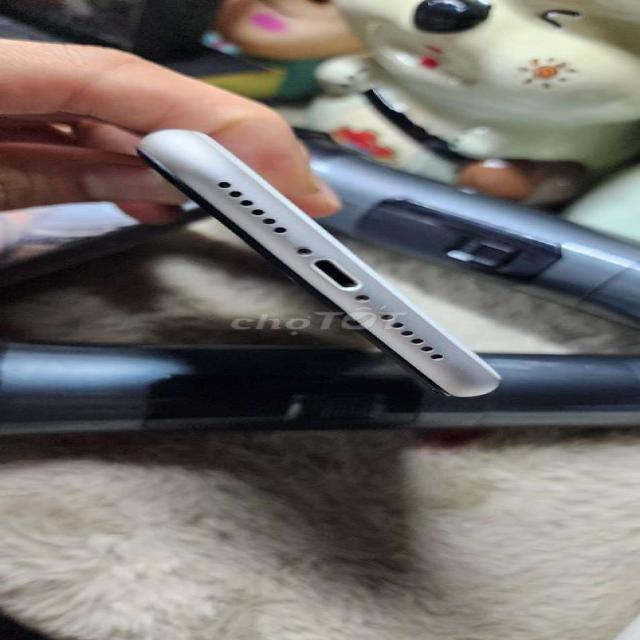gen_11: (138, 129, 499, 397)
